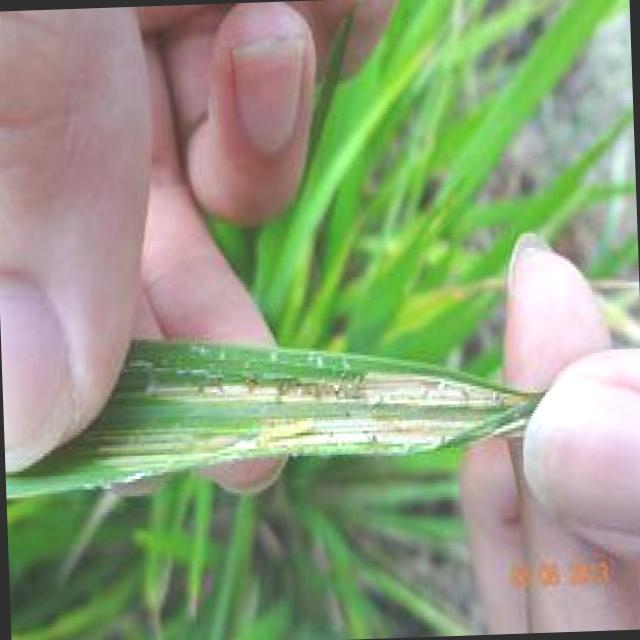leaf folder: (253, 417, 319, 452)
